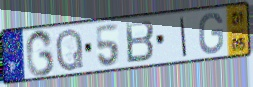5: (94, 22, 121, 69)
B: (124, 19, 156, 66)
G: (25, 28, 57, 78), (198, 12, 225, 56)
I: (178, 16, 188, 58)
Q: (54, 27, 85, 73)
